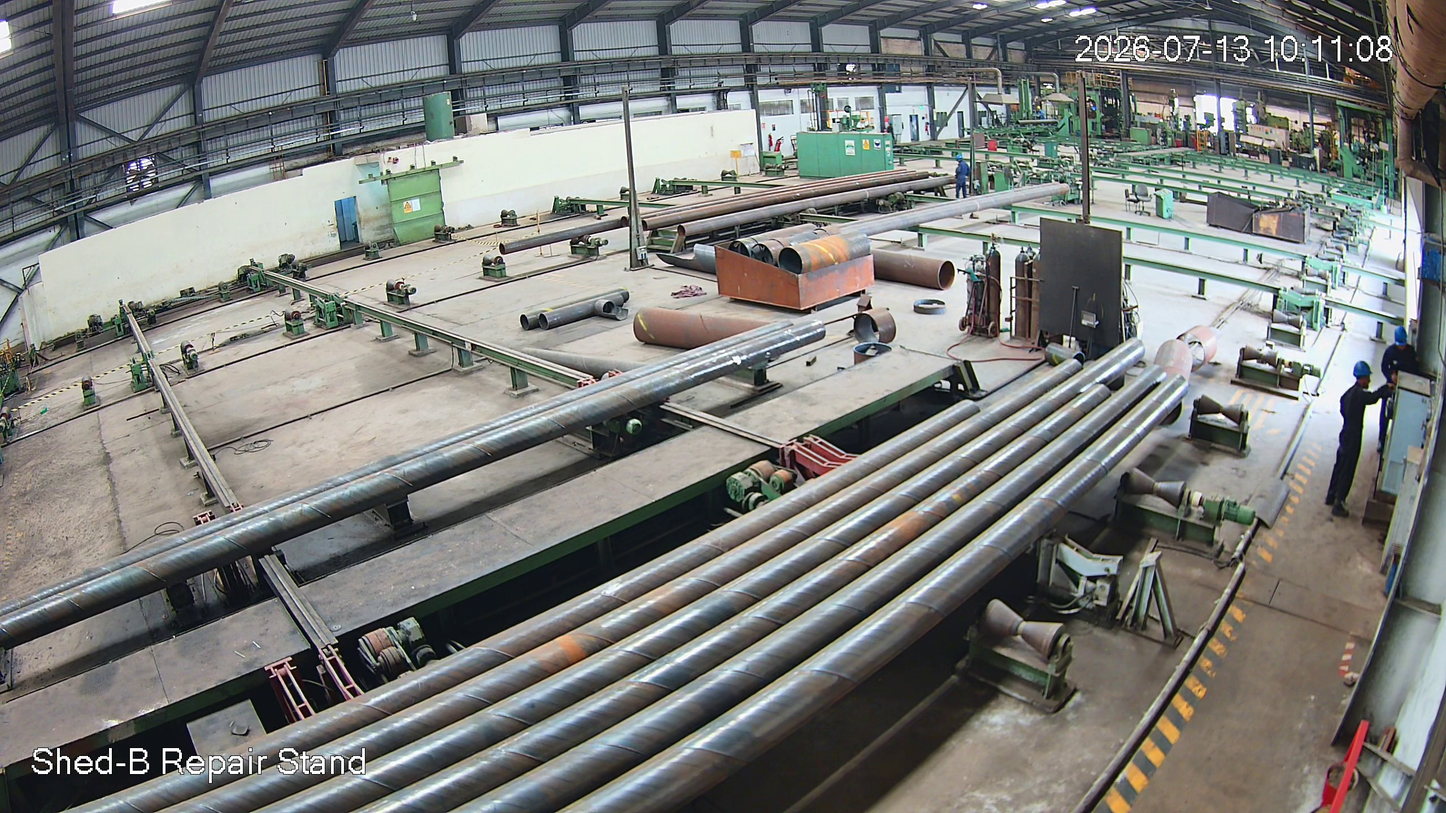Helmet: (1350, 359, 1376, 395)
Person: (1325, 361, 1376, 517)
